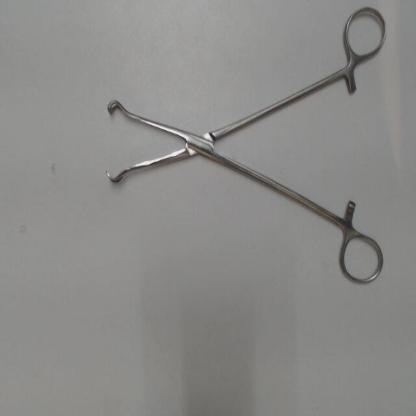8 Babcock Tissue Forceps: (101, 2, 393, 289)
